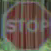Stop: (6, 1, 50, 49)
